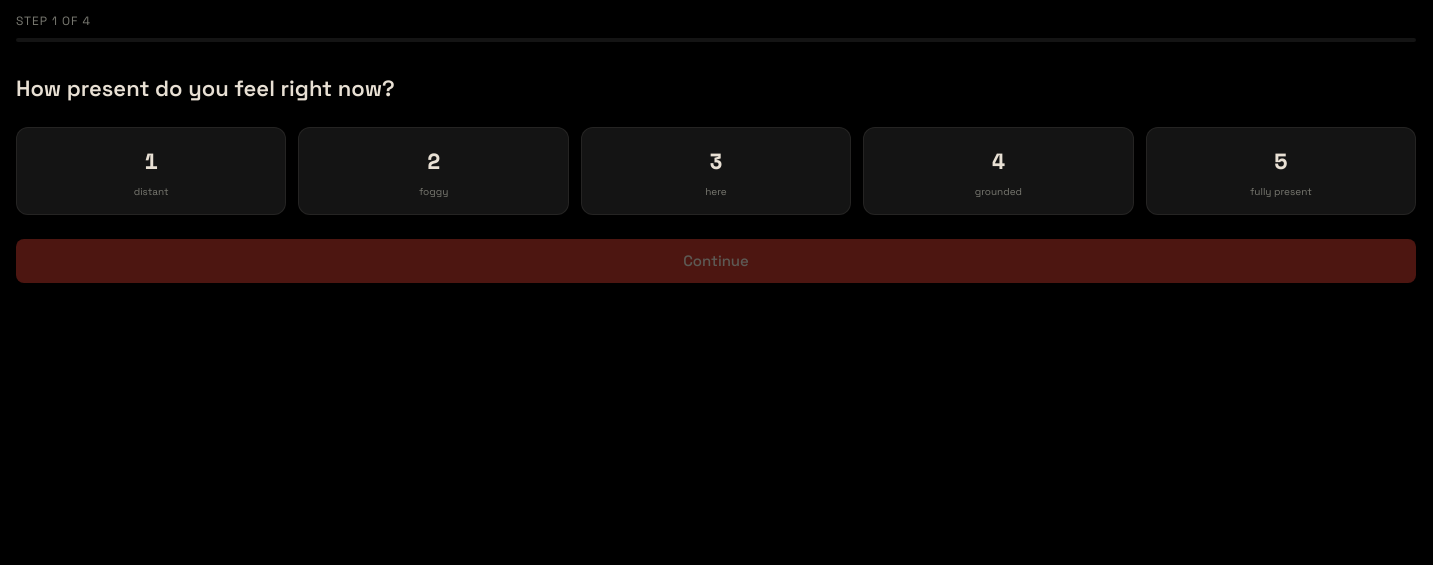
DailyCheckIn flow › can go back from emotion to presence
Expected: the heading "How present do you feel right now?" is shown, 16,74 -> 395,102
Click the button "3 here": (716, 171) 581,127 -> 851,215
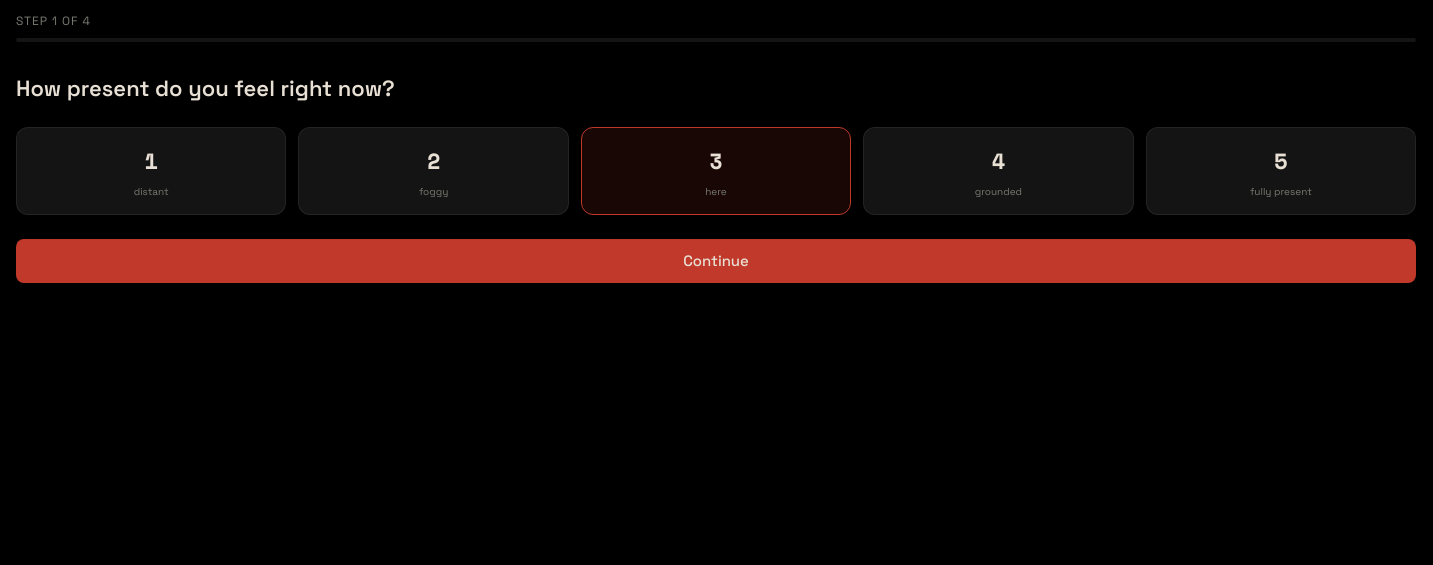
Click the button "Continue": (716, 261) 16,239 -> 1416,283
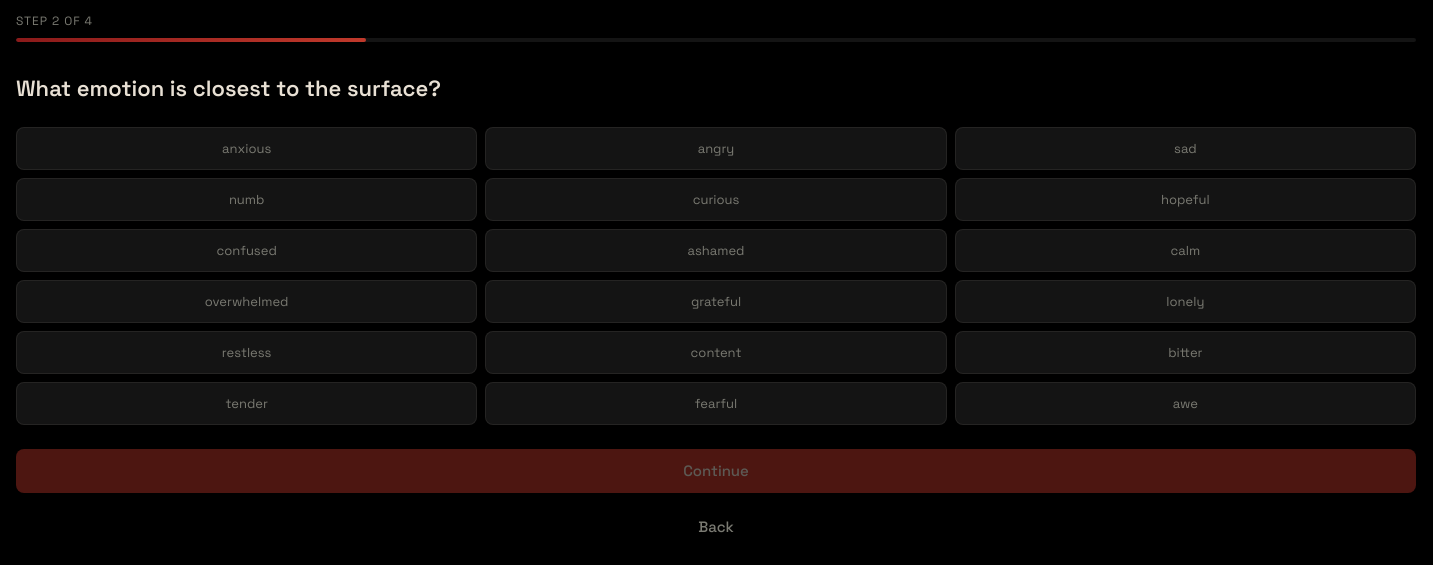
Expected: the heading "What emotion is closest to the surface?" is shown, 16,74 -> 441,102
Click the button "Back": (716, 527) 16,505 -> 1416,549
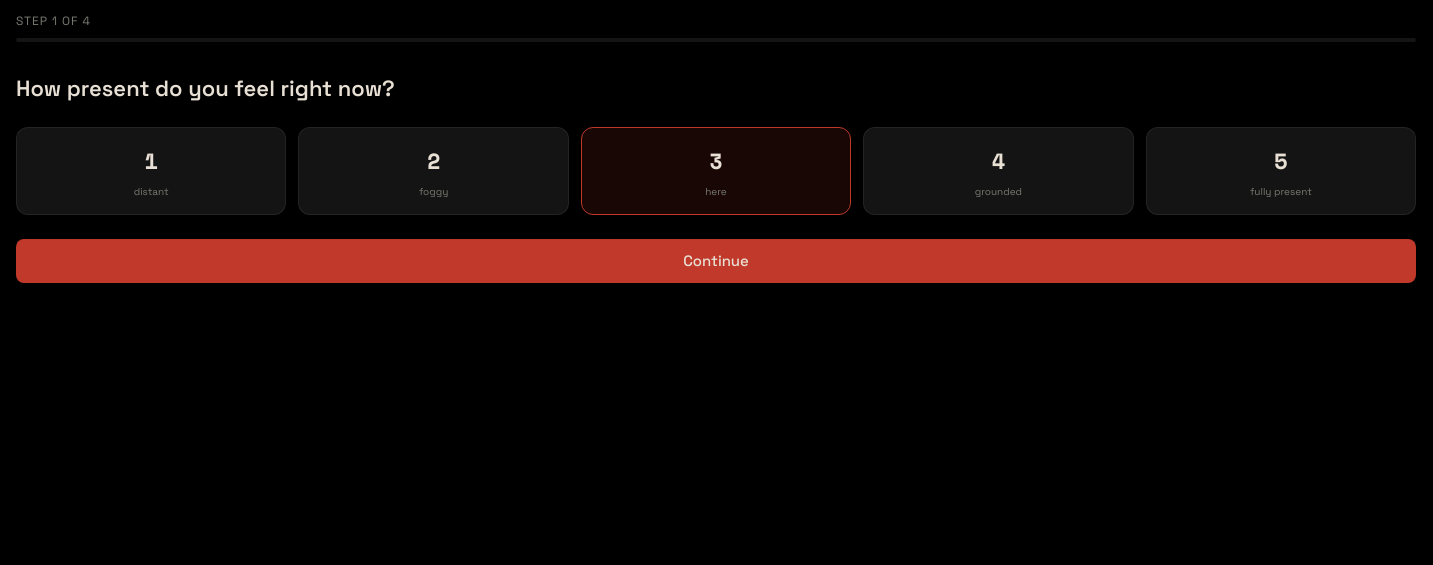
Expected: the heading "How present do you feel right now?" is shown, 16,74 -> 395,102
